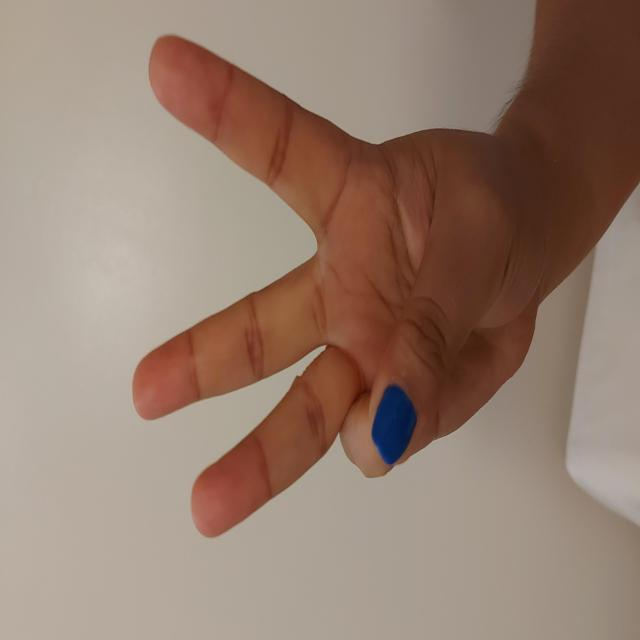W: (97, 130, 607, 540)
